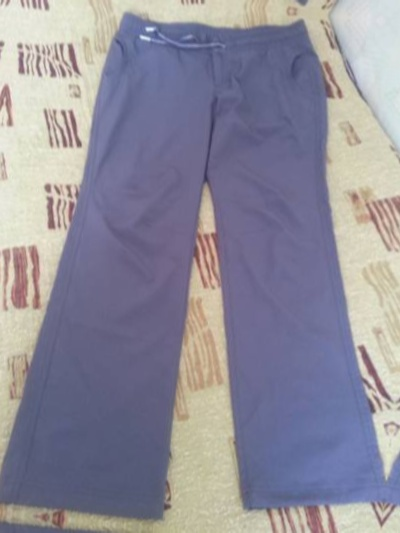Pants: (0, 0, 400, 533), (45, 0, 400, 15), (391, 38, 400, 533), (0, 522, 367, 533)
